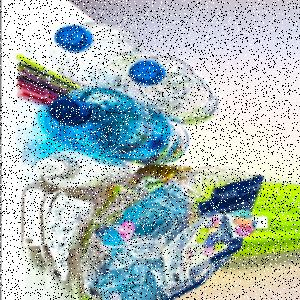Plastic-bottle: (44, 88, 190, 166), (123, 53, 221, 127), (50, 22, 152, 86)
